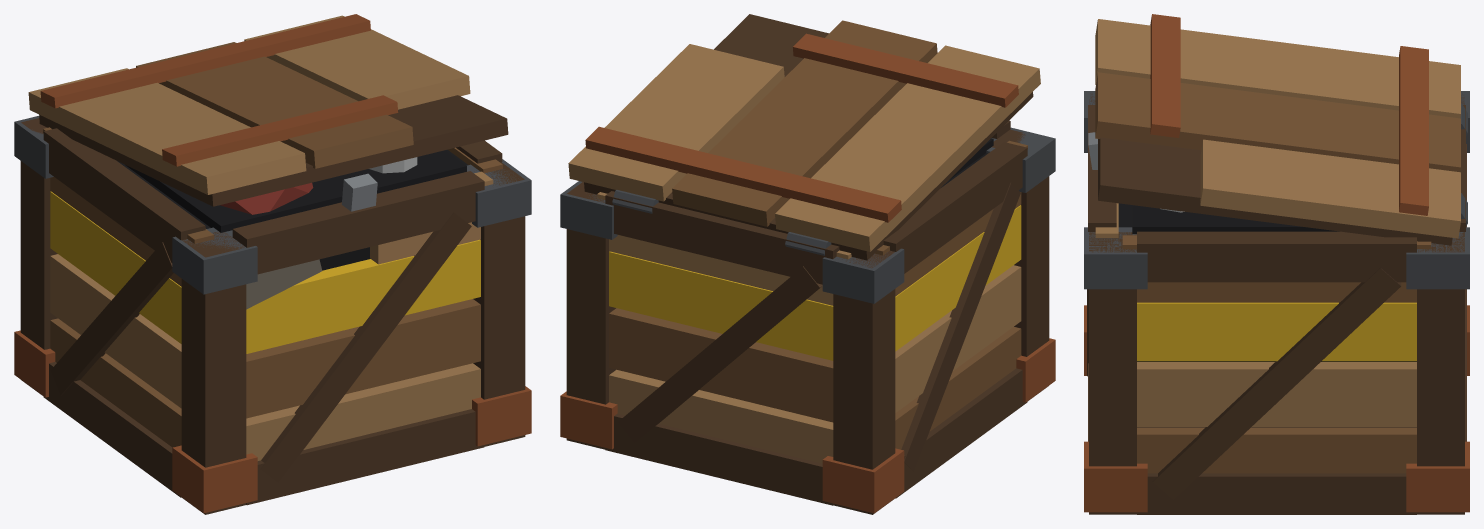
File: loot_crate.fbx
The picture shows the model from 3 angles, left to right: view 1: azimuth 30°, elevation 25°; view 2: azimuth 150°, elevation 25°; view 3: azimuth 270°, elevation 25°; orthographic projection. The views are drawn at different scales.
Visible parts, largest first — view 1: loot_crate; view 2: loot_crate; view 3: loot_crate.
Boxes of the visible parts, x1,y1,x2,y2 form: loot_crate: (14,14,531,514); loot_crate: (560,14,1055,514); loot_crate: (1084,14,1469,514).
Bounding box in the file's own units: 0.4 × 0.3915 × 0.4.
